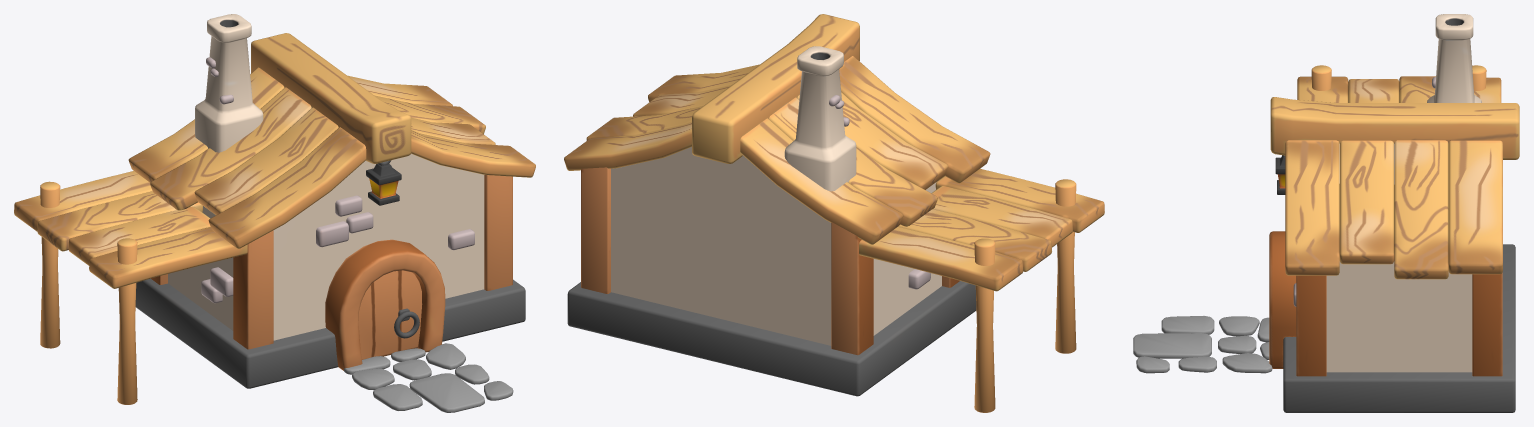
Rendered from house1.fbx.
3 renders of one model, left to right at view 1: azimuth 30°, elevation 25°; view 2: azimuth 150°, elevation 25°; view 3: azimuth 270°, elevation 25°, orthographic. The views are drawn at different scales.
Visible parts, largest first — view 1: house1; view 2: house1; view 3: house1.
Boxes of the visible parts, box(x1,y1,x2,y2) form: house1: box(14, 14, 535, 412); house1: box(564, 14, 1104, 412); house1: box(1133, 14, 1519, 412).
Bounding box in the file's own units: 841 × 551 × 666.
